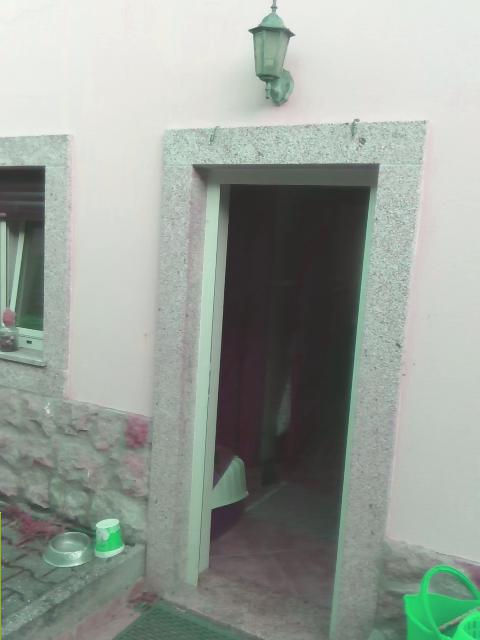open_door: (180, 161, 379, 638)
